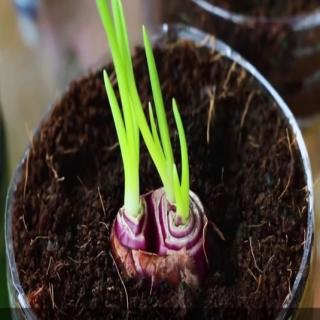Bawang Merah: (96, 1, 220, 295)
